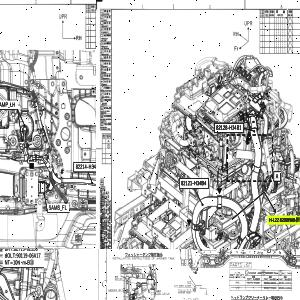PartNumber: (16, 252, 41, 260), (216, 124, 242, 131), (181, 180, 207, 187), (75, 163, 96, 169), (13, 249, 39, 252), (278, 282, 292, 284), (247, 282, 260, 284)
